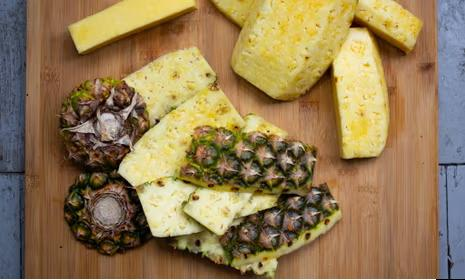organic: (119, 82, 246, 187), (231, 0, 357, 101), (219, 182, 343, 268), (176, 124, 317, 195), (58, 76, 150, 169), (63, 169, 153, 257), (330, 28, 390, 160), (121, 47, 218, 127), (67, 0, 197, 54), (353, 0, 423, 53)
